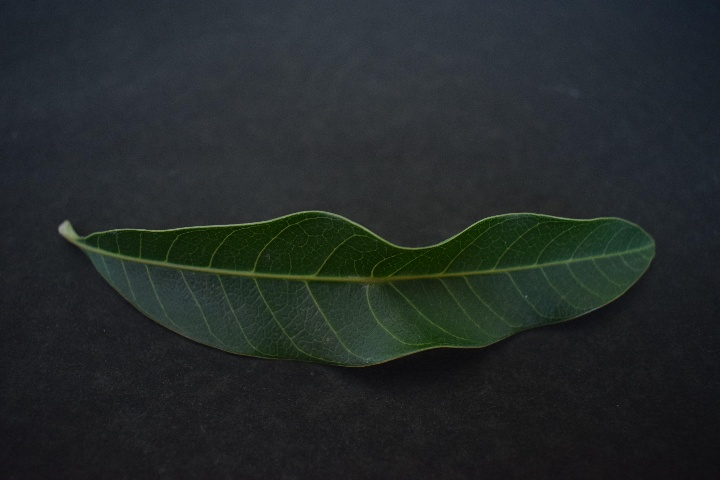healthy: (59, 202, 674, 370)
